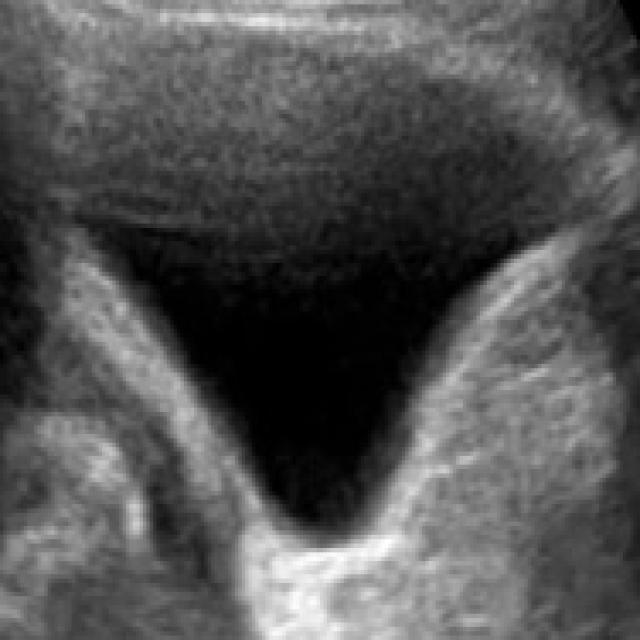bladder: (46, 10, 614, 586)
